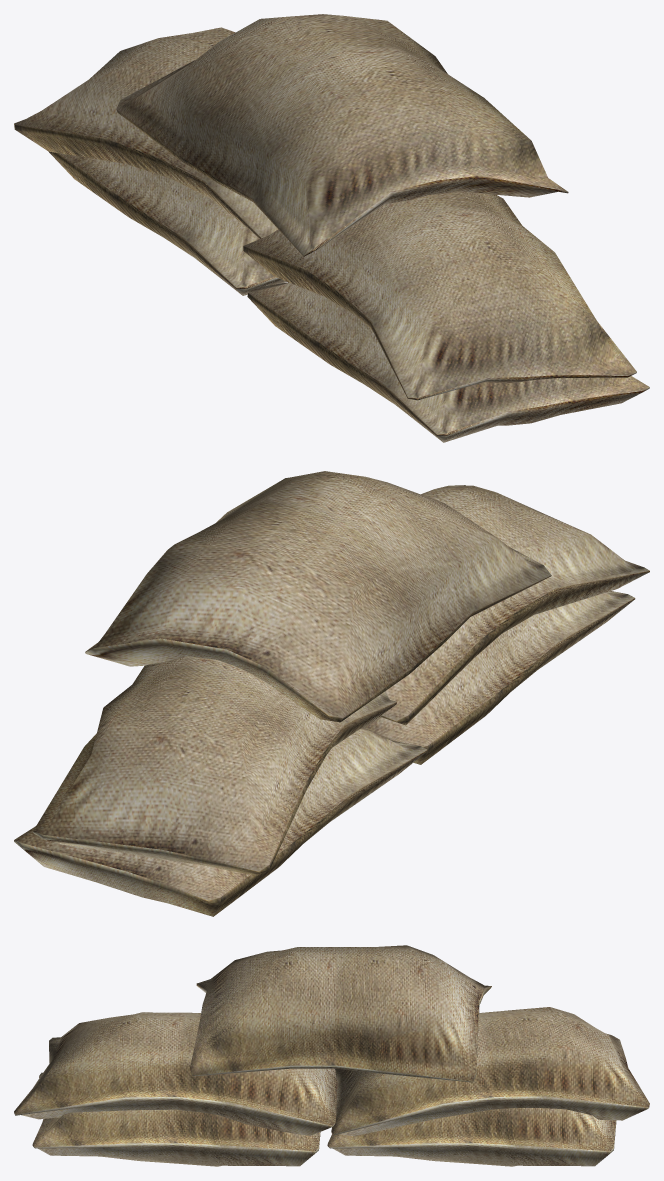
The model's file is sandbag03.FBX.
The picture shows the model from 3 angles, top to bottom: view 1: azimuth 30°, elevation 25°; view 2: azimuth 150°, elevation 25°; view 3: azimuth 270°, elevation 25°; orthographic projection. The views are drawn at different scales.
Parts seen in each view (by area): view 1: sandbag03; view 2: sandbag03; view 3: sandbag03.
Part boxes in pixels (left/top/right/bottom): sandbag03: left=14, top=14, right=649, bottom=442; sandbag03: left=14, top=471, right=649, bottom=916; sandbag03: left=14, top=945, right=649, bottom=1166.
Bounding box in the file's own units: 127 × 123 × 347.
1 material, 1 textured.
